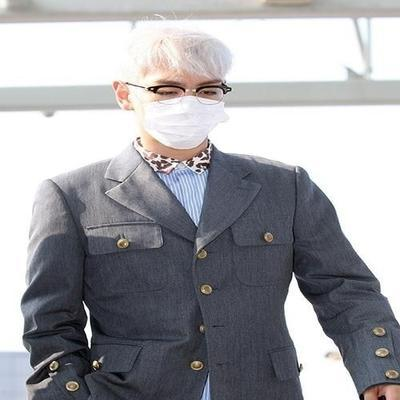Face_Mask_Found: (134, 98, 232, 150)
